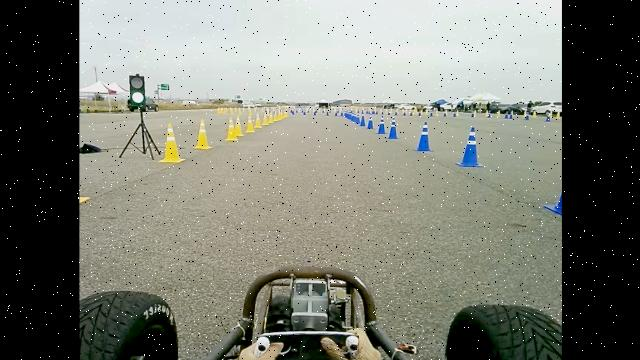blue cone: (456, 126, 484, 167), (414, 120, 434, 152), (386, 116, 400, 140), (376, 115, 386, 134), (360, 115, 366, 127)
yellow cone: (159, 123, 186, 163), (193, 118, 213, 150), (225, 116, 239, 141), (245, 116, 256, 133), (255, 113, 262, 128)
